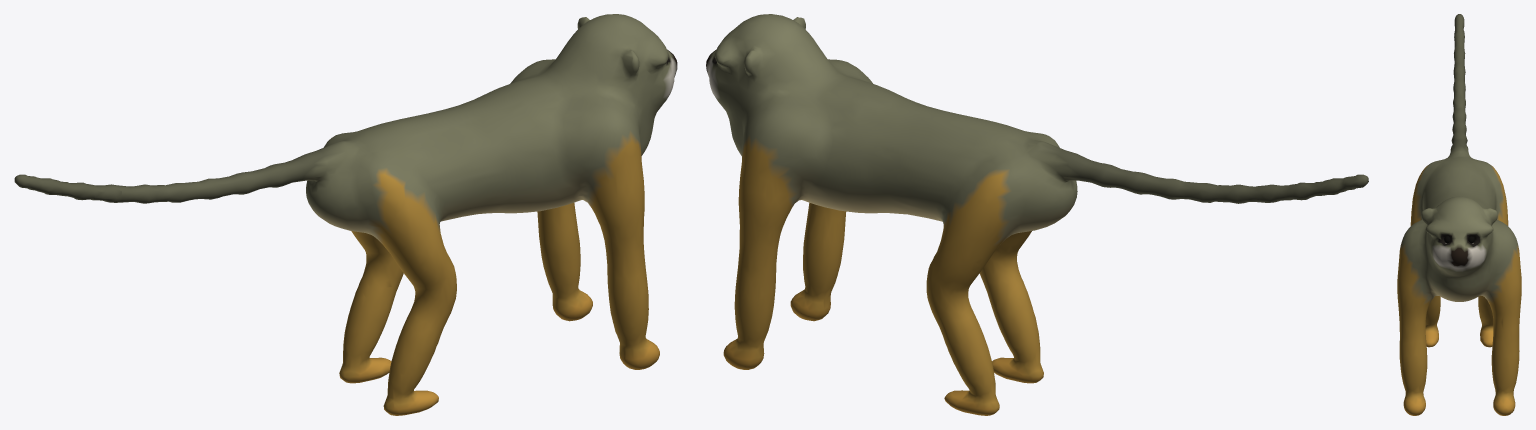
The model's file is monkey.glb.
The picture shows the model from 3 angles, left to right: view 1: azimuth 30°, elevation 25°; view 2: azimuth 150°, elevation 25°; view 3: azimuth 270°, elevation 25°; orthographic projection. The views are drawn at different scales.
Parts seen in each view (by area): view 1: monkey; view 2: monkey; view 3: monkey.
Part boxes in pixels (bbox=[...]): monkey: bbox=[14, 14, 677, 415]; monkey: bbox=[706, 14, 1368, 415]; monkey: bbox=[1397, 14, 1521, 415].
Size of the model in its own units: 0.8357 by 0.3922 by 0.2041.
